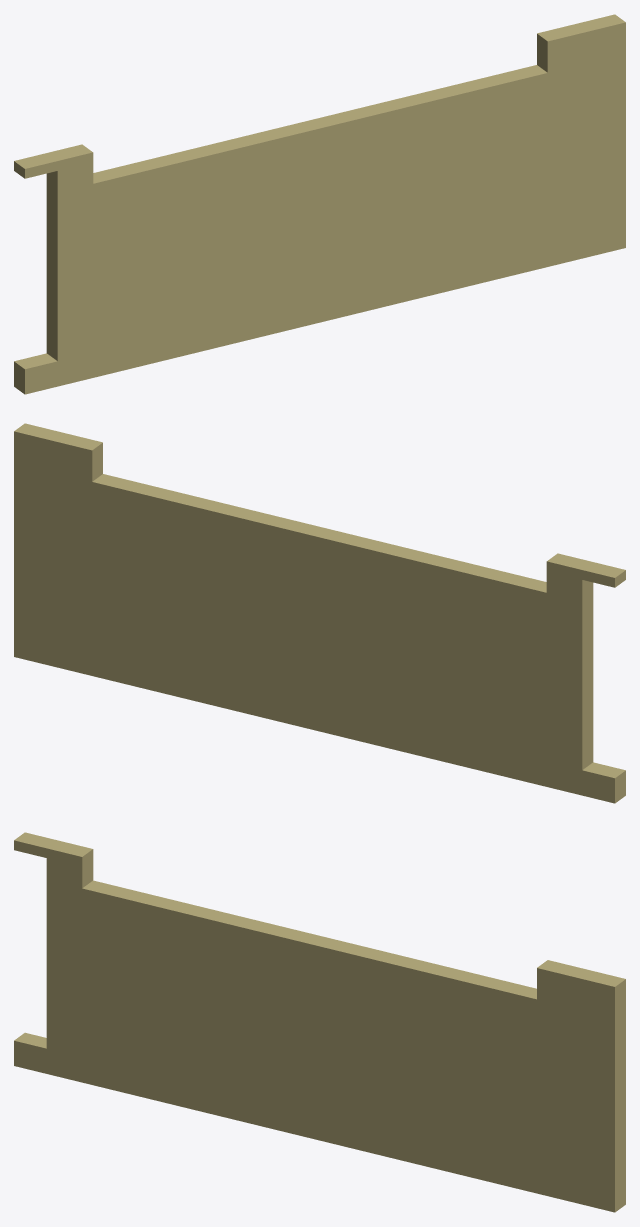
Rendered from ruin7.fbx.
The picture shows the model from 3 angles, top to bottom: view 1: azimuth 30°, elevation 25°; view 2: azimuth 150°, elevation 25°; view 3: azimuth 330°, elevation 25°; orthographic projection.
Visible parts, largest first — view 1: Boole_5; view 2: Boole_5; view 3: Boole_5.
Boxes of the visible parts, x1,y1,x2,y2 form: Boole_5: (14,14,625,394); Boole_5: (14,423,625,803); Boole_5: (14,832,625,1212).
Size of the model in its own units: 344 by 124 by 10.86.
